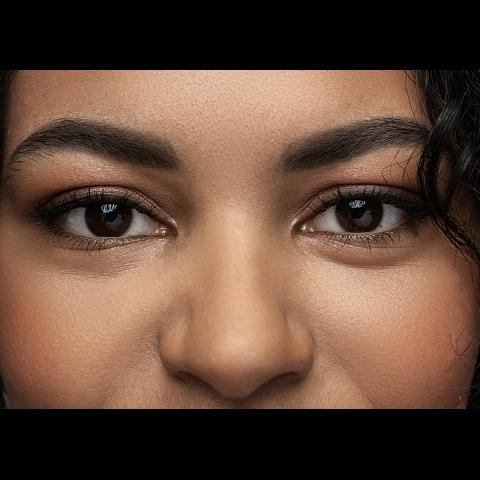opened: (34, 119, 433, 276)
